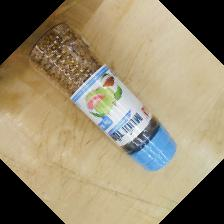TayNinh_blue: (28, 22, 179, 171)
